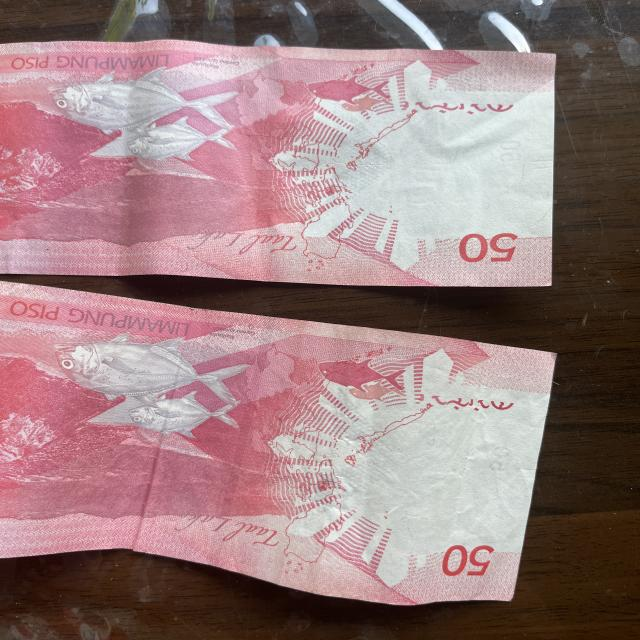50_maliputo: (51, 328, 240, 445), (43, 64, 238, 164)
50_maliputo_watermark: (311, 351, 412, 404), (294, 71, 403, 113)
value_watermark: (493, 131, 529, 166)
watermark: (385, 411, 526, 536), (394, 114, 534, 226)
